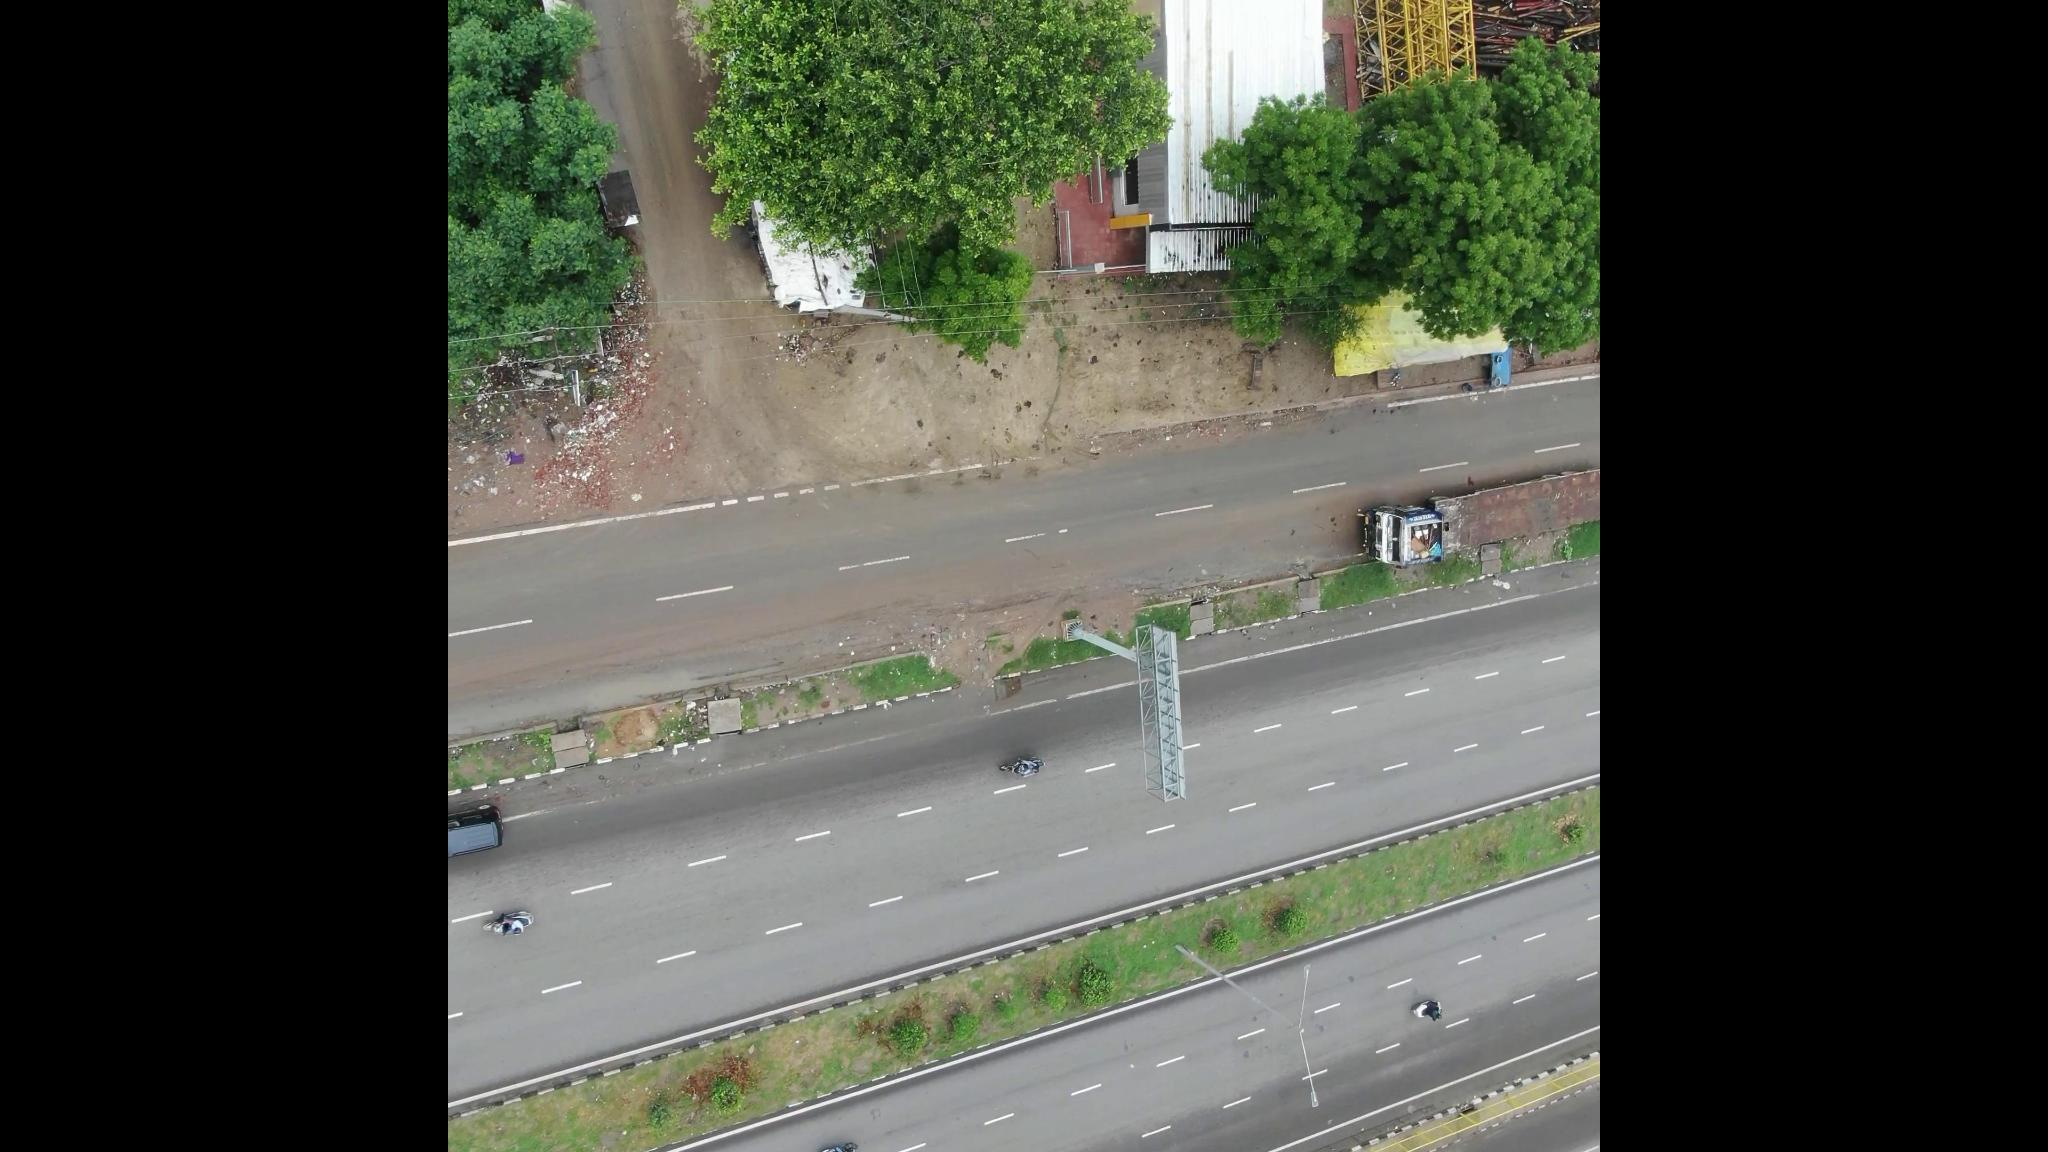Muddy_road: (789, 571, 1054, 663)
Road_side_garbage: (478, 352, 632, 505)
